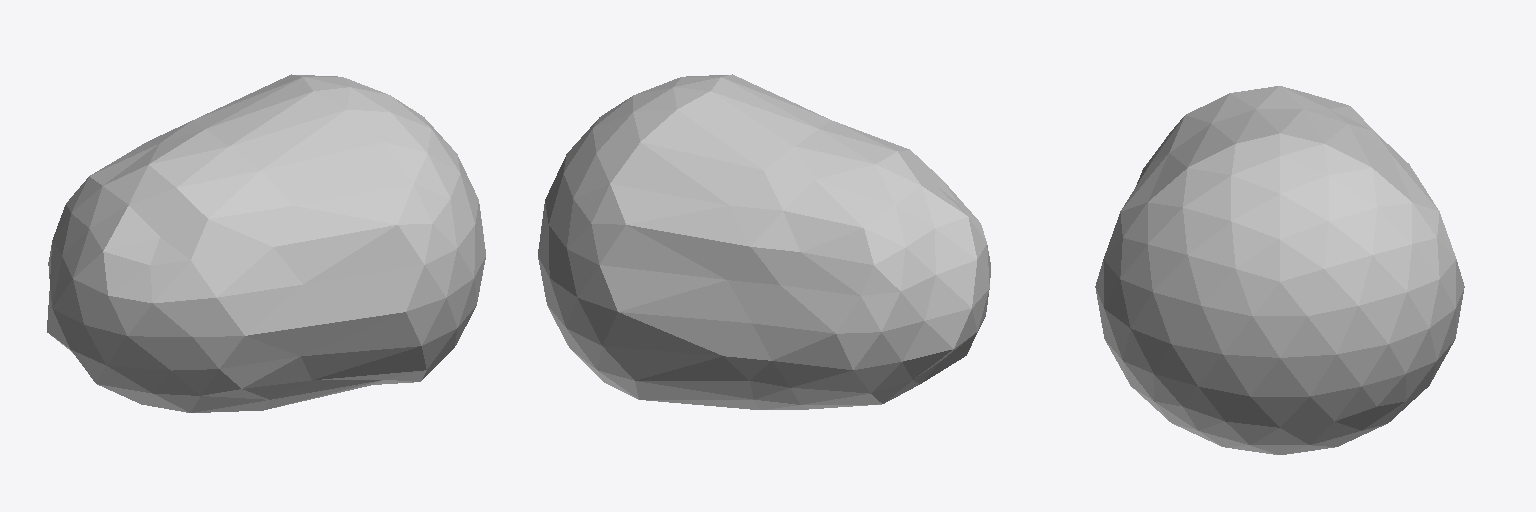
Rendered from asteroid.obj.
3 views of the same model, side by side, from view 1: azimuth 30°, elevation 25°; view 2: azimuth 150°, elevation 25°; view 3: azimuth 270°, elevation 25° (orthographic).
Visible parts, largest first — view 1: Icosphere; view 2: Icosphere; view 3: Icosphere.
Part boxes in pixels (x1,y1,x2,y2): Icosphere: (47, 74, 485, 412); Icosphere: (538, 74, 990, 409); Icosphere: (1095, 86, 1464, 454).
Size of the model in its own units: 2.79 by 1.97 by 2.19.